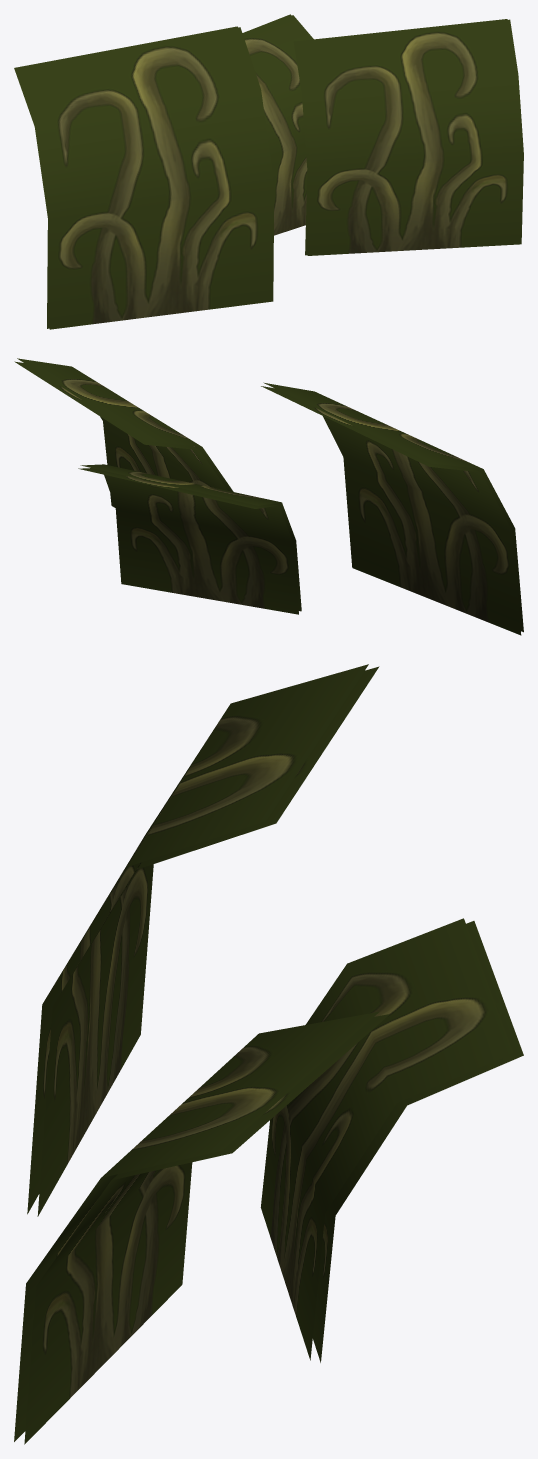
The model's file is grass_set_02.fbx.
3 renders of one model, top to bottom at view 1: azimuth 30°, elevation 25°; view 2: azimuth 150°, elevation 25°; view 3: azimuth 270°, elevation 25°, orthographic. The views are drawn at different scales.
Visible parts, largest first — view 1: grass_set_02; view 2: grass_set_02; view 3: grass_set_02.
Part boxes in pixels (x1,y1,x2,y2): grass_set_02: (14,14,523,329); grass_set_02: (14,358,523,635); grass_set_02: (14,664,523,1444).
Size of the model in its own units: 4.82 by 2.11 by 2.31.
